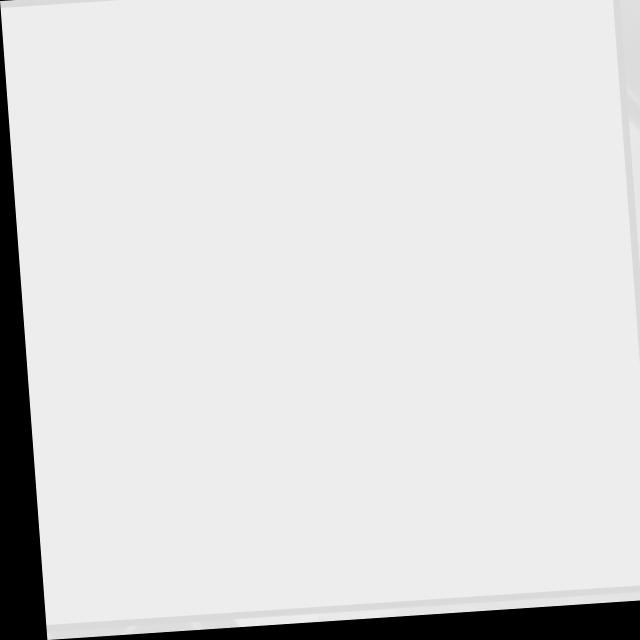qr_code: (0, 0, 640, 624)
